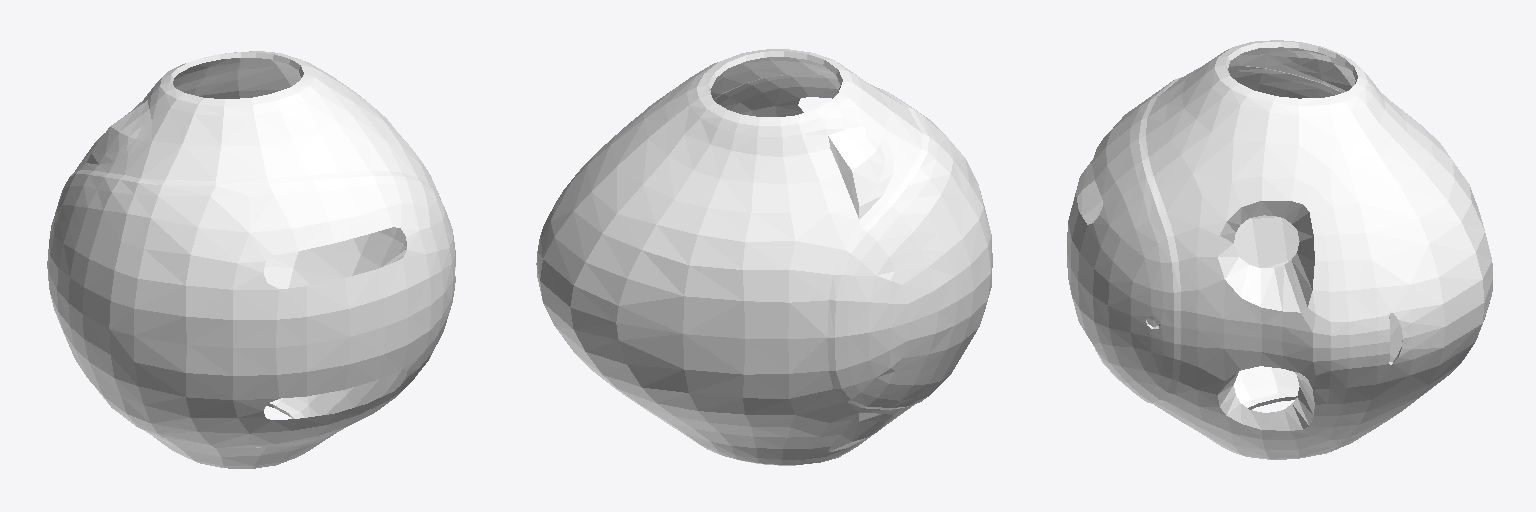
File: HeadPitch_3.obj
3 views of the same model, side by side, from view 1: azimuth 30°, elevation 25°; view 2: azimuth 150°, elevation 25°; view 3: azimuth 270°, elevation 25° (orthographic).
Size of the model in its own units: 0.1981 by 0.1848 by 0.193.